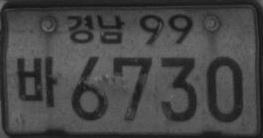0: (205, 55, 244, 123)
3: (159, 56, 197, 121)
6: (69, 56, 110, 122)
7: (112, 56, 153, 121)
9: (138, 13, 165, 45), (167, 13, 193, 45)
경남_H: (67, 14, 125, 44)
바: (16, 55, 58, 108)
